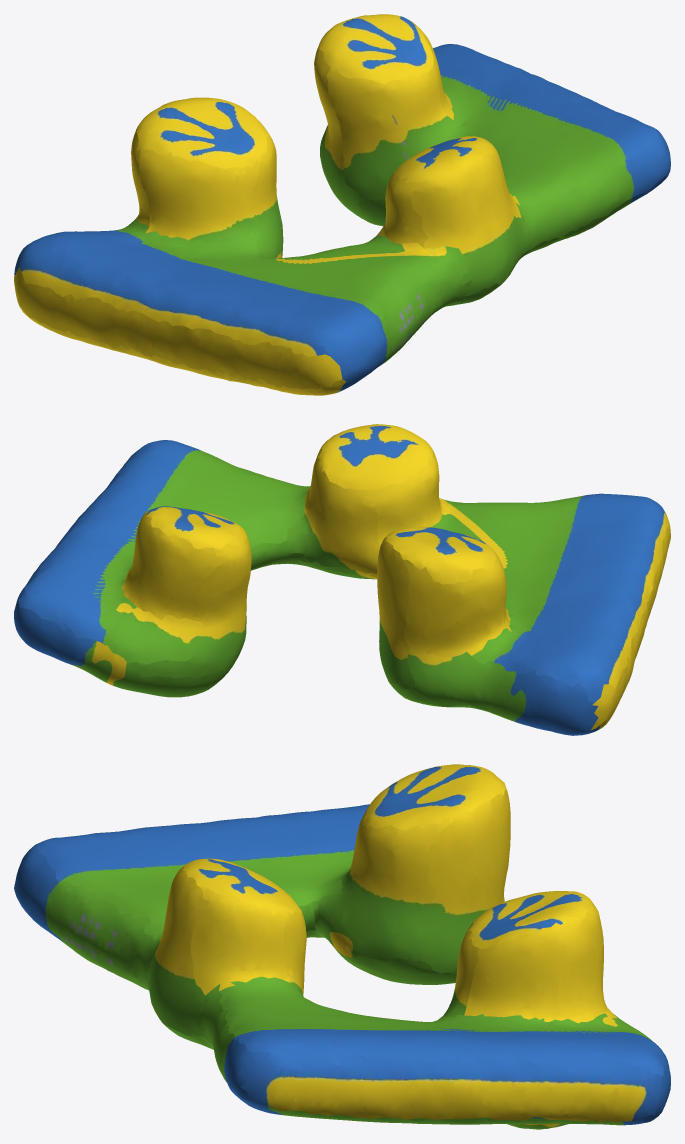
File: quickjump.glb
The picture shows the model from 3 angles, top to bottom: view 1: azimuth 30°, elevation 25°; view 2: azimuth 150°, elevation 25°; view 3: azimuth 270°, elevation 25°; orthographic projection. The views are drawn at different scales.
Parts seen in each view (by area): view 1: geometry_0; view 2: geometry_0; view 3: geometry_0.
Boxes of the visible parts, box(x1,y1,x2,y2) form: geometry_0: box(14, 14, 670, 395); geometry_0: box(14, 424, 670, 735); geometry_0: box(14, 764, 670, 1129).
Size of the model in its own units: 0.9917 by 0.3034 by 0.8524.
1 material, 1 textured.
